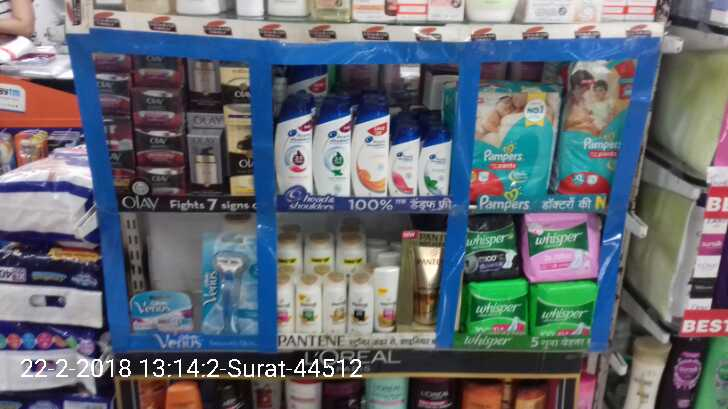venus: (202, 234, 258, 332)
